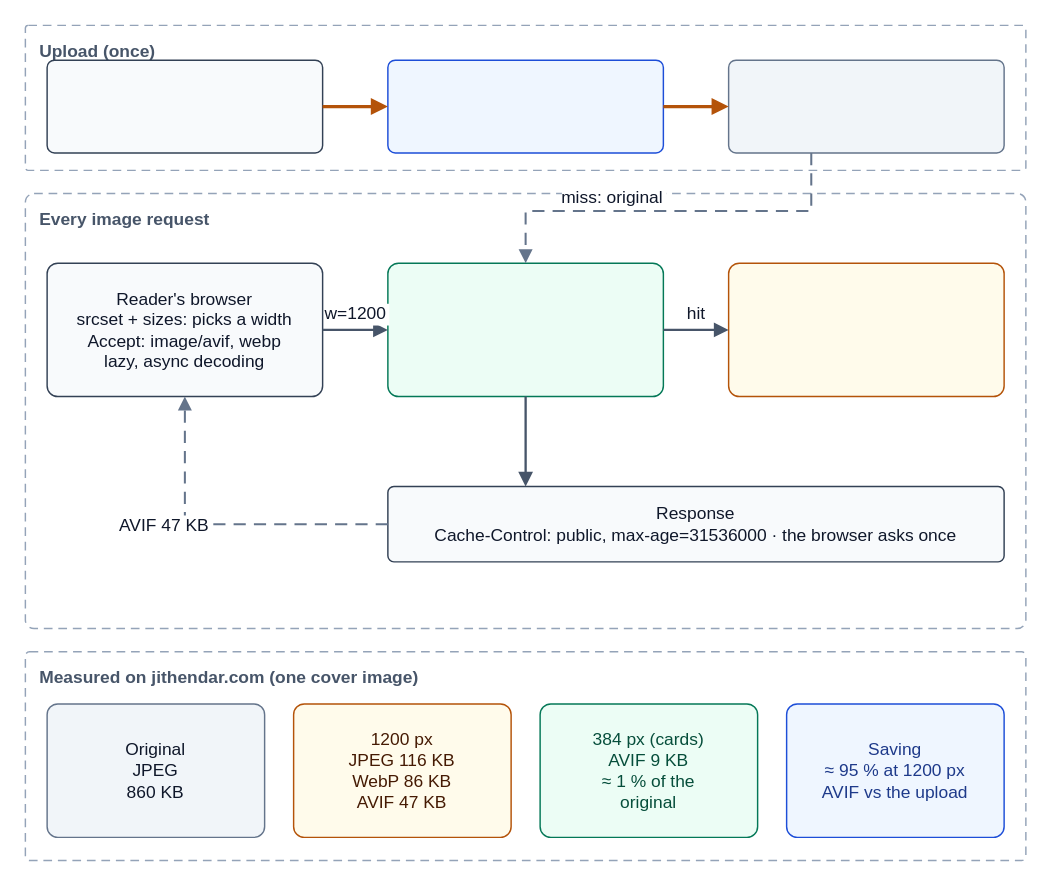
This 1051x886 diagram has some shape labels left out. The shapes that lost their labels are listed below. From the top down, each one's centre as x and y in pixels, then its label:
At (x=184, y=106): "Author admin media library".
At (x=524, y=106): "Upload check real type from the bytes ≤ 10 MB".
At (x=865, y=106): "Cloudflare R2 original kept as uploaded".
At (x=524, y=329): "next/image optimiser sharp: resize + encode AVIF → WebP → original quality 75".
At (x=865, y=329): "Optimised-image cache pod disk, 30 days ≤ 200 MB, per pod".
